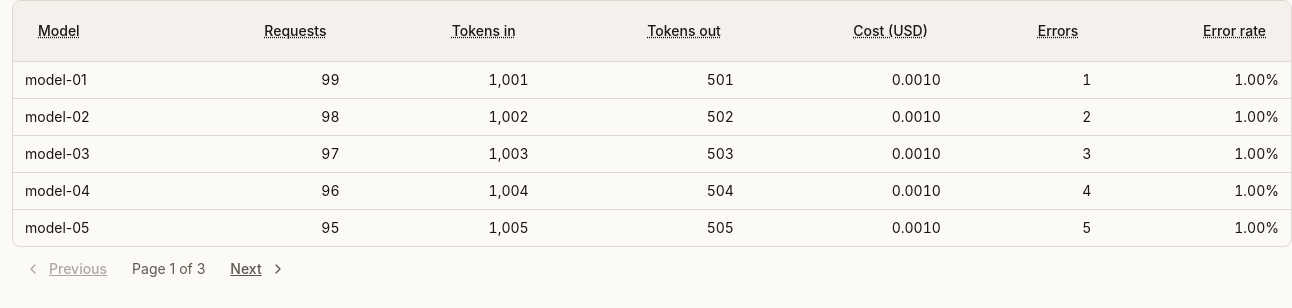
Test case: UsageGroupTable paging › moves to the next page and back
Click the button "Next" at (258, 269), box [217,247,299,291]
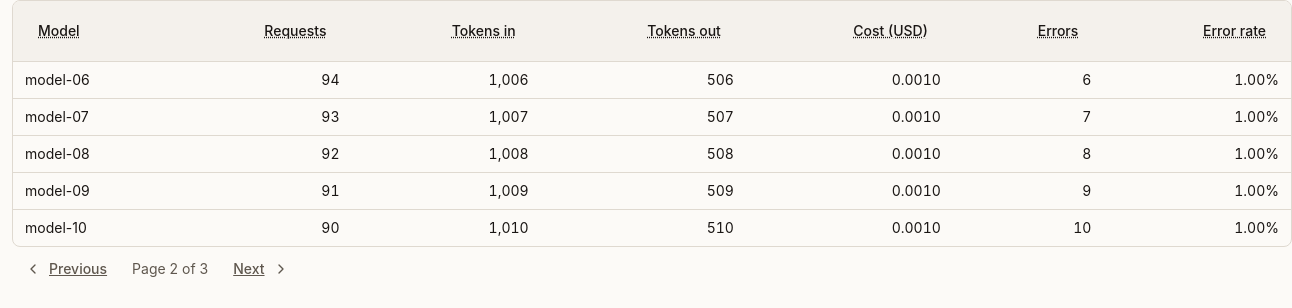
expect the text "Page 2 of 3" is shown: met, box [132,259,208,279]
Click the button "Previous" at (66, 269), box [12,247,120,291]
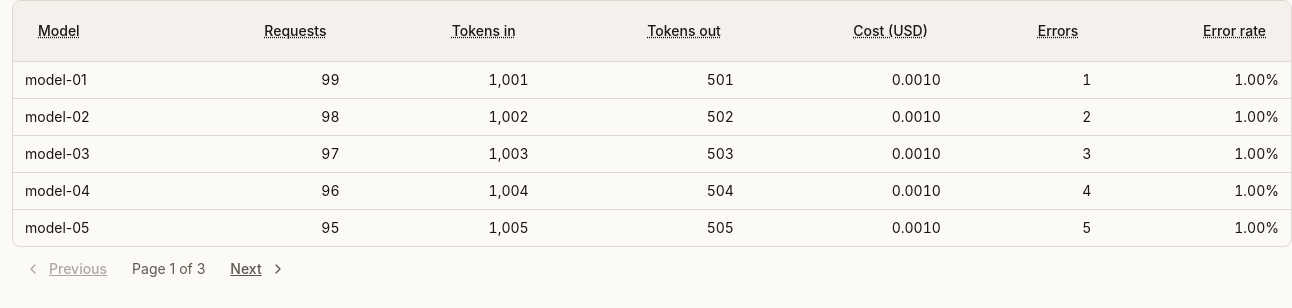
expect the text "Page 1 of 3" is shown: met, box [132,259,205,279]
